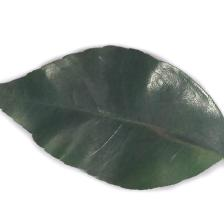healthy: (5, 43, 224, 169)
